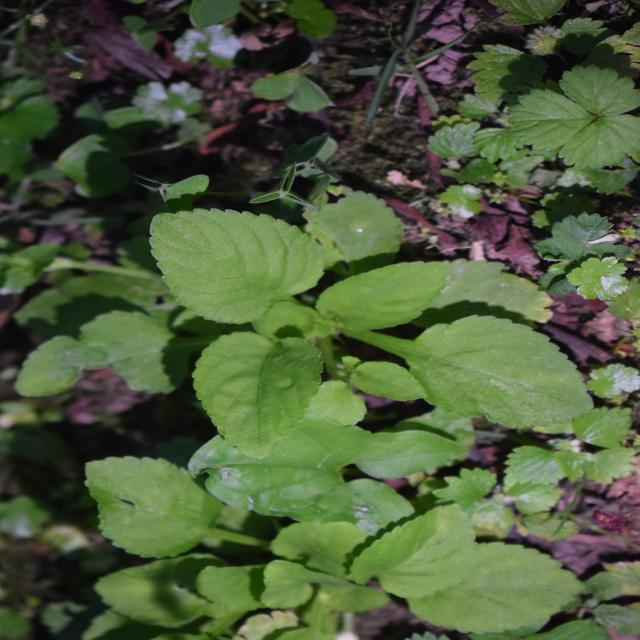Viola: (180, 147, 467, 536)
